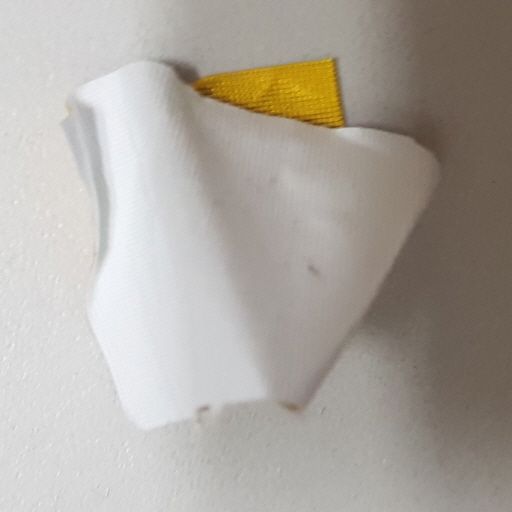Paper_3: (51, 43, 430, 420)
